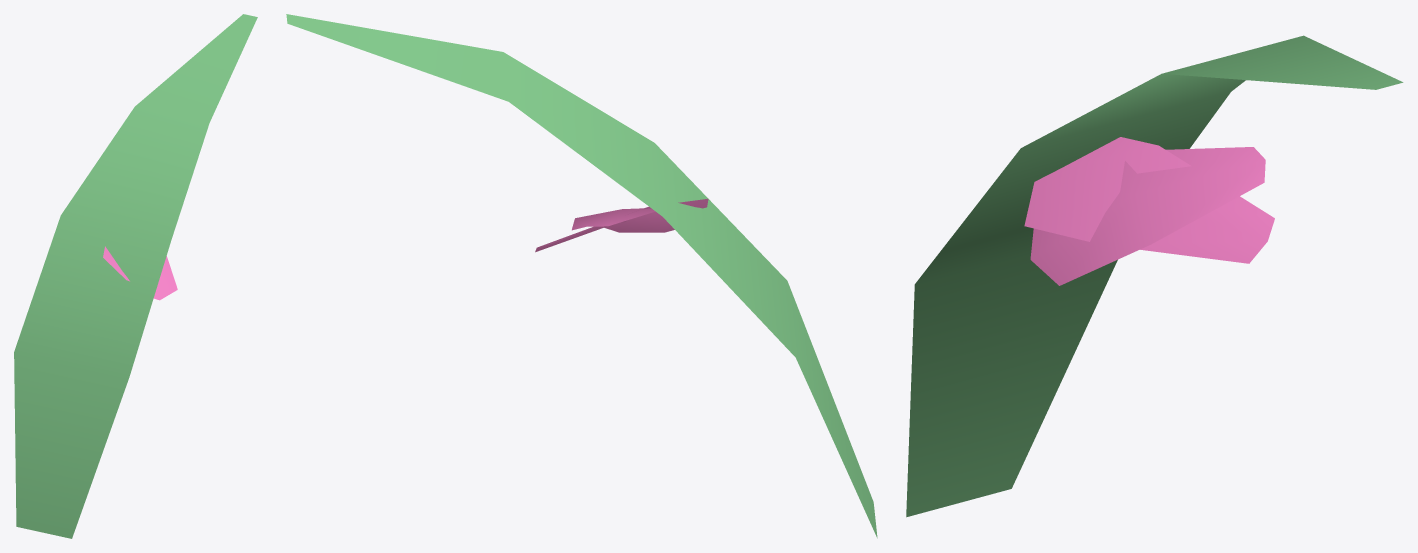
File: flower_05_bell_detach.glb
3 views of the same model, side by side, from view 1: azimuth 30°, elevation 25°; view 2: azimuth 150°, elevation 25°; view 3: azimuth 270°, elevation 25° (orthographic). The views are drawn at different scales.
Parts seen in each view (by area): view 1: Piece_Leaf, Piece_Petal_A; view 2: Piece_Leaf, Piece_Petal_A; view 3: Piece_Leaf, Piece_Petal_A, Piece_Petal_B.
Part boxes in pixels (x1,y1,x2,y2): Piece_Leaf: (14,14,257,538); Piece_Petal_A: (153,256,177,300); Piece_Leaf: (286,14,877,538); Piece_Petal_A: (572,208,674,232); Piece_Leaf: (906,35,1403,517); Piece_Petal_A: (1030,147,1265,285); Piece_Petal_B: (1024,137,1274,263).
Bounding box in the file's own units: 0.495 × 0.5145 × 0.3207.
